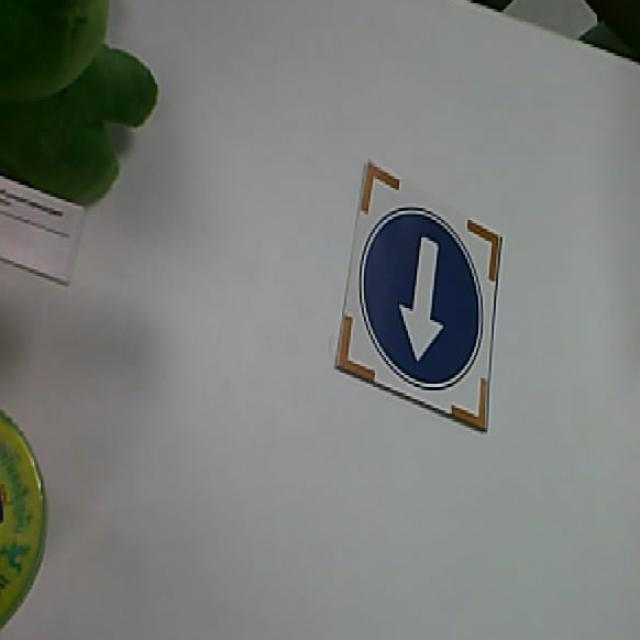straight: (332, 162, 508, 440)
